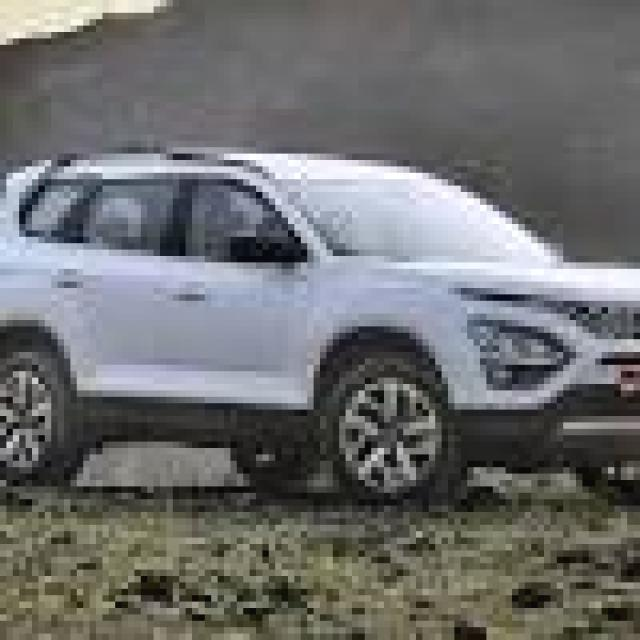SUV: (0, 149, 640, 468)
